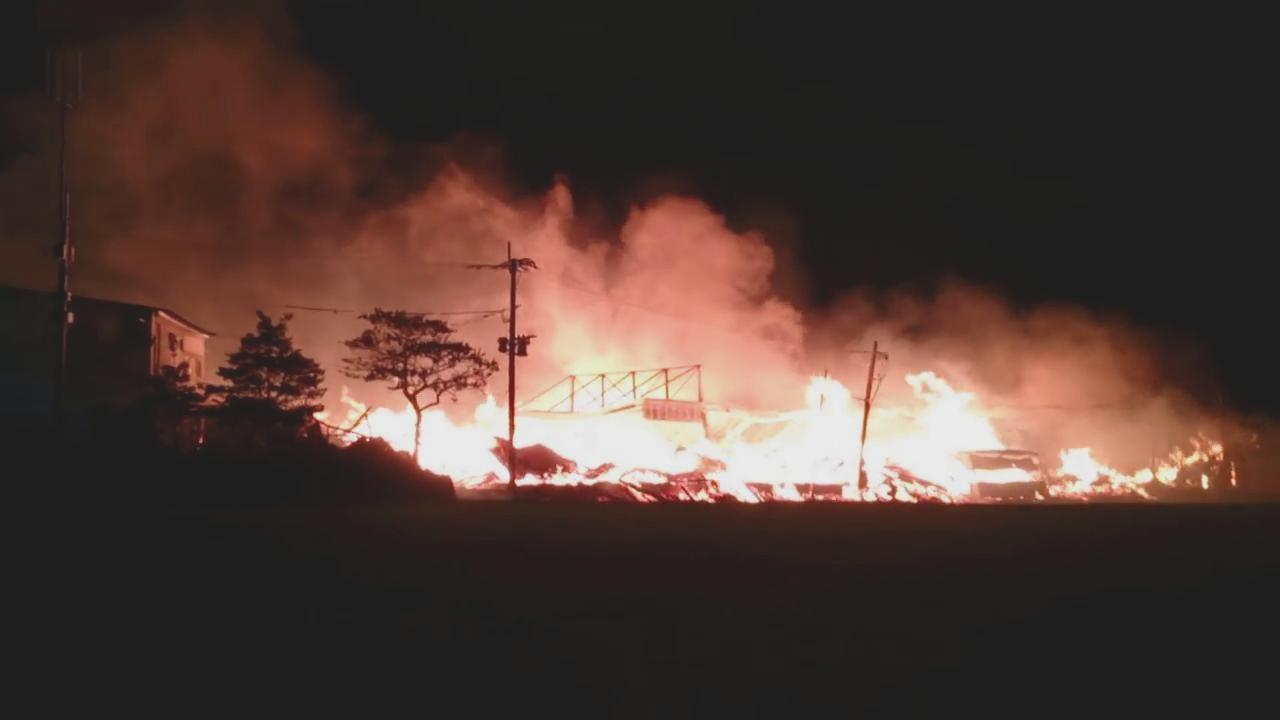Fire: (301, 376, 1243, 496)
